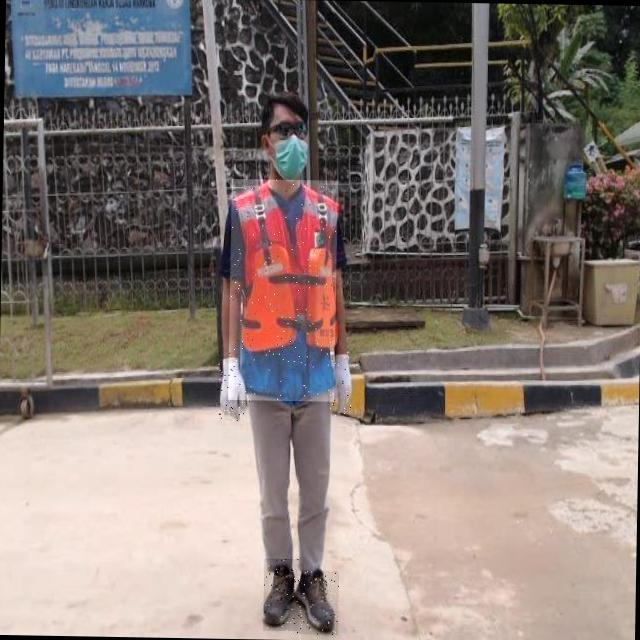Person: (184, 79, 381, 640)
Safety Boot: (297, 570, 339, 635), (263, 558, 299, 631)
Safety Vest: (228, 179, 338, 402)
bare-arms: (213, 350, 253, 428), (319, 344, 358, 419)
no-helmet: (256, 89, 312, 127)
